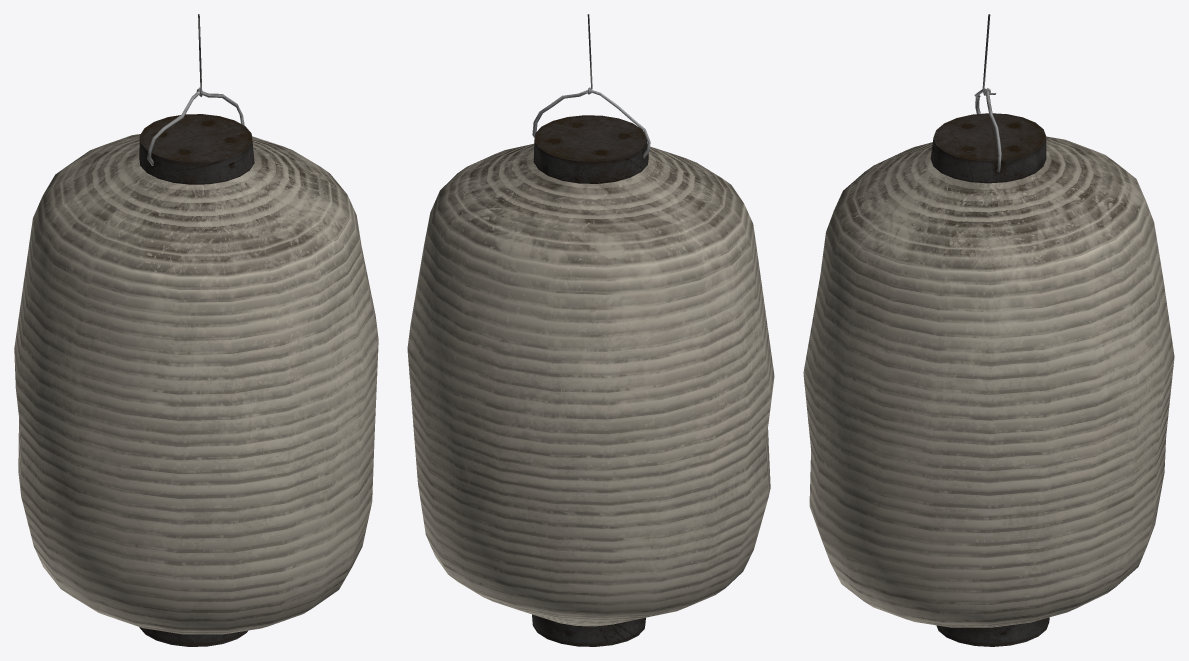
The model's file is Lantern_B.fbx.
3 views of the same model, side by side, from view 1: azimuth 30°, elevation 25°; view 2: azimuth 150°, elevation 25°; view 3: azimuth 270°, elevation 25° (orthographic).
Parts seen in each view (by area): view 1: Lantern_B; view 2: Lantern_B; view 3: Lantern_B.
Part boxes in pixels (x1=…): Lantern_B: x1=14, y1=14, x2=378, y2=646; Lantern_B: x1=407, y1=14, x2=774, y2=646; Lantern_B: x1=803, y1=14, x2=1174, y2=646.
Bounding box in the file's own units: 45.61 × 83.27 × 45.9.
1 material, 1 textured.
